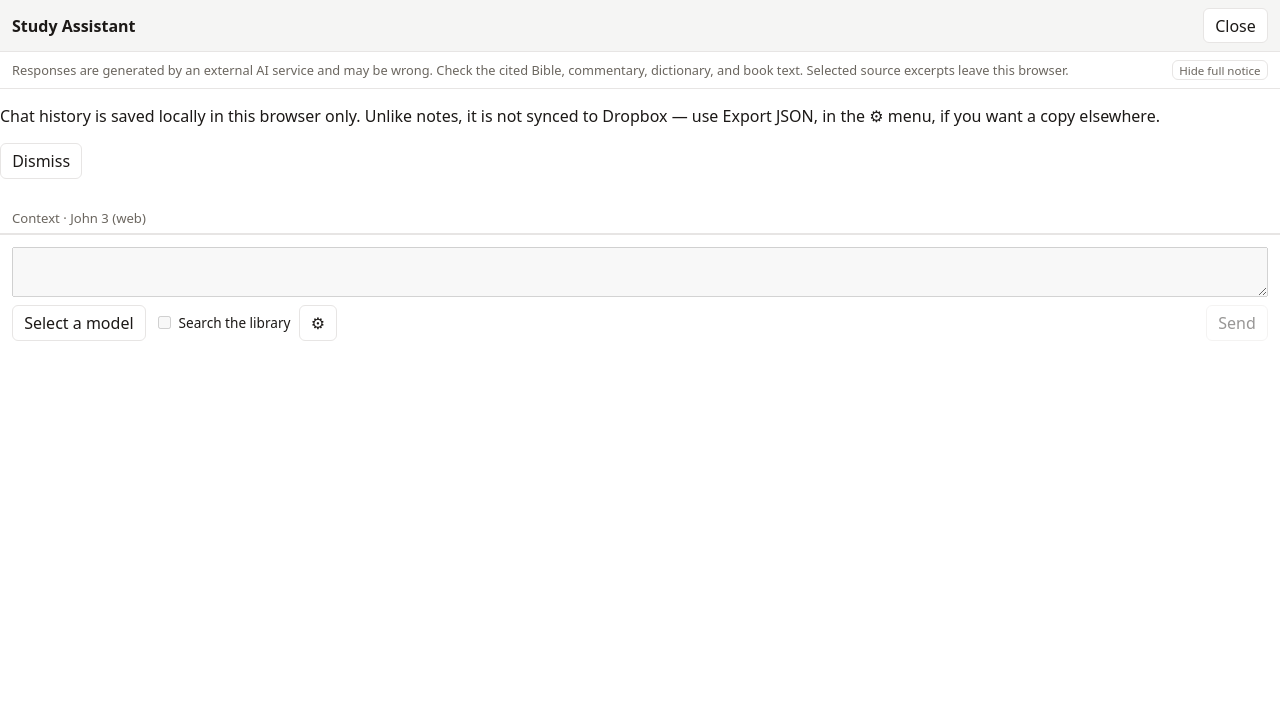
Test: ChatPanel › shows prompt/completion pricing for each model in the picker
Step 1. Click the button with class "chat-model-chip" → (79, 323), box left=12, top=305, right=146, bottom=340
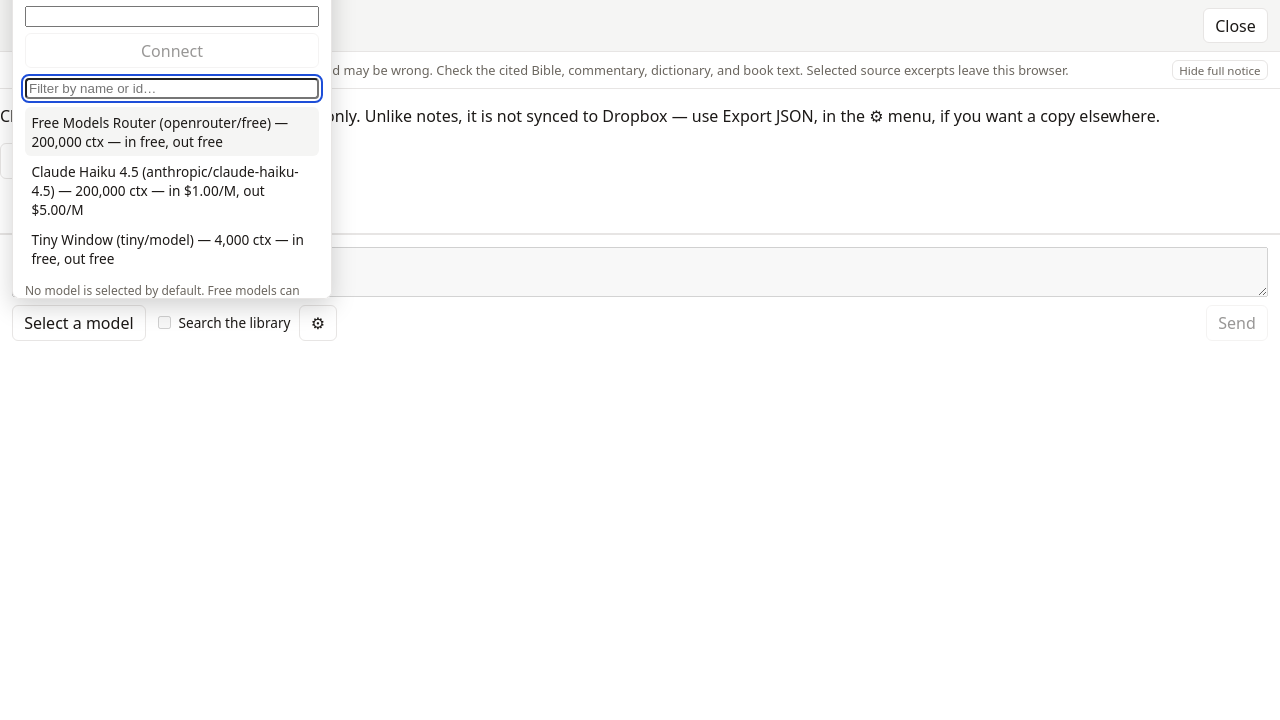
Result: the option that starts with "Claude Haiku 4.5" is shown at left=25, top=156, right=319, bottom=224
